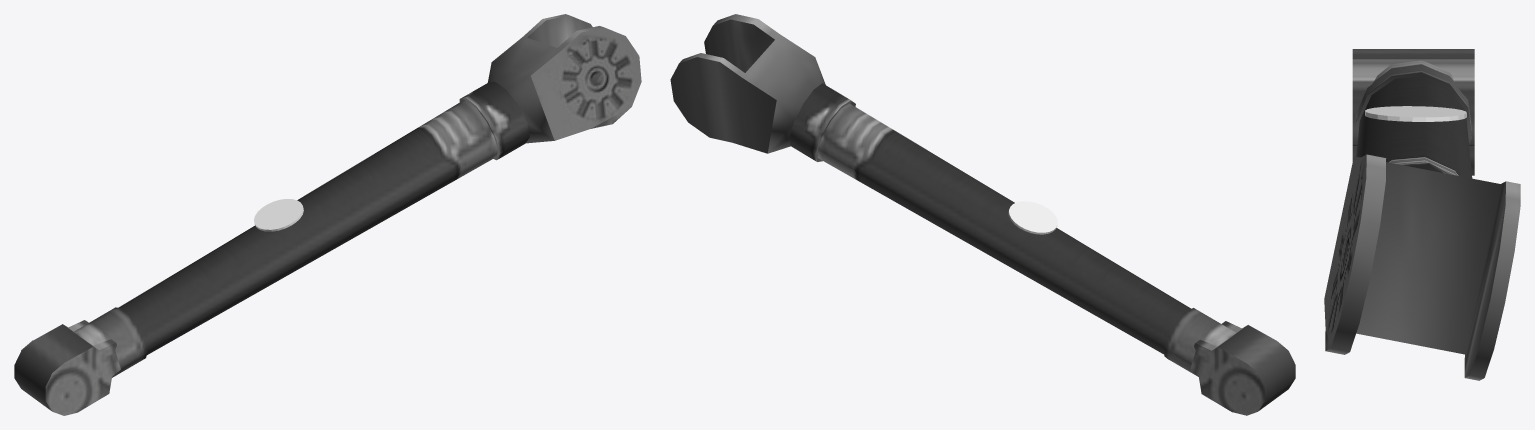
The model's file is rocker_rear_right_link.dae.
The picture shows the model from 3 angles, left to right: view 1: azimuth 30°, elevation 25°; view 2: azimuth 150°, elevation 25°; view 3: azimuth 270°, elevation 25°; orthographic projection. The views are drawn at different scales.
Parts seen in each view (by area): view 1: rocker_rear_right_link; view 2: rocker_rear_right_link; view 3: rocker_rear_right_link.
Boxes of the visible parts, x1=… form: rocker_rear_right_link: x1=14, y1=14, x2=641, y2=415; rocker_rear_right_link: x1=670, y1=14, x2=1295, y2=415; rocker_rear_right_link: x1=1324, y1=49, x2=1520, y2=380.
Size of the model in its own units: 0.8521 by 0.1235 by 0.3484.
2 materials, 1 textured.
